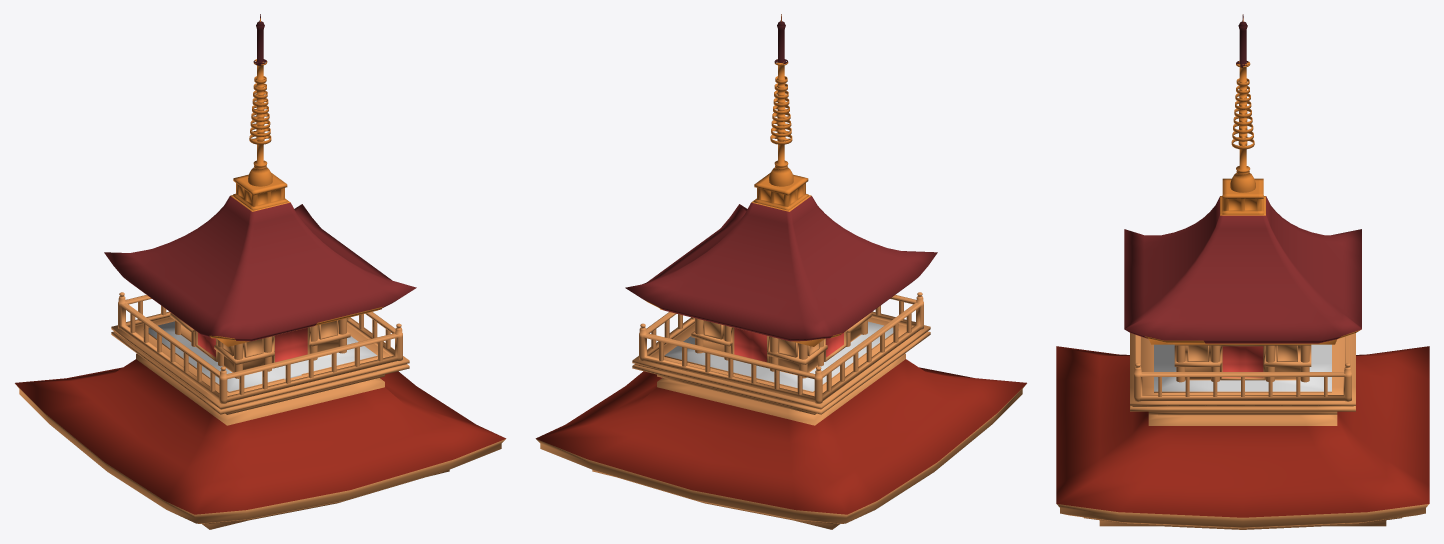
File: top.glb
The picture shows the model from 3 angles, left to right: view 1: azimuth 30°, elevation 25°; view 2: azimuth 150°, elevation 25°; view 3: azimuth 270°, elevation 25°; orthographic projection. The views are drawn at different scales.
Parts seen in each view (by area): view 1: Japanese_Shrine.004, Japanese_Shrine.001; view 2: Japanese_Shrine.004, Japanese_Shrine.001; view 3: Japanese_Shrine.004, Japanese_Shrine.001.
Boxes of the visible parts, x1=… form: Japanese_Shrine.004: x1=15, y1=292, x2=506, y2=529; Japanese_Shrine.001: x1=104, y1=14, x2=416, y2=346; Japanese_Shrine.004: x1=535, y1=292, x2=1026, y2=529; Japanese_Shrine.001: x1=625, y1=14, x2=937, y2=346; Japanese_Shrine.004: x1=1056, y1=333, x2=1429, y2=529; Japanese_Shrine.001: x1=1124, y1=14, x2=1361, y2=344.
Size of the model in its own units: 2.43 by 3.25 by 2.43.
